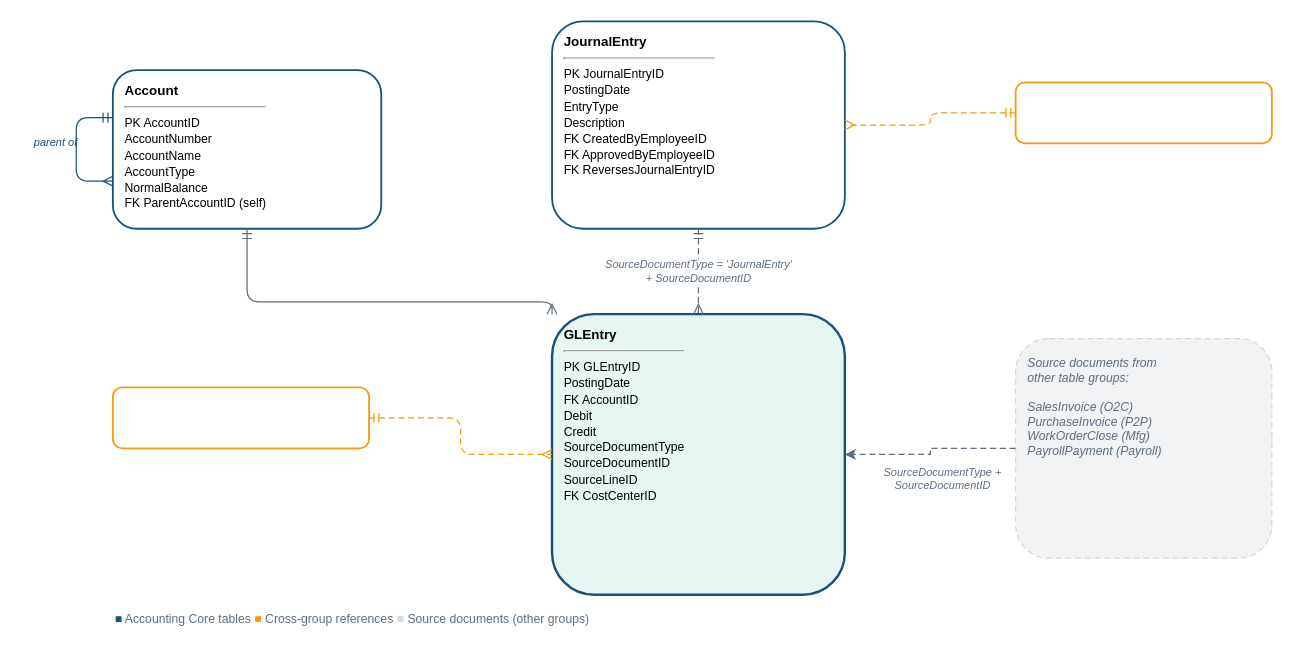
This 1293x653 diagram has some shape labels left out. Each missing label, with the centre of its shape:
CostCenter (Org Planning group): the point at 240,417
Employee (Master Data group): the point at 1143,112
